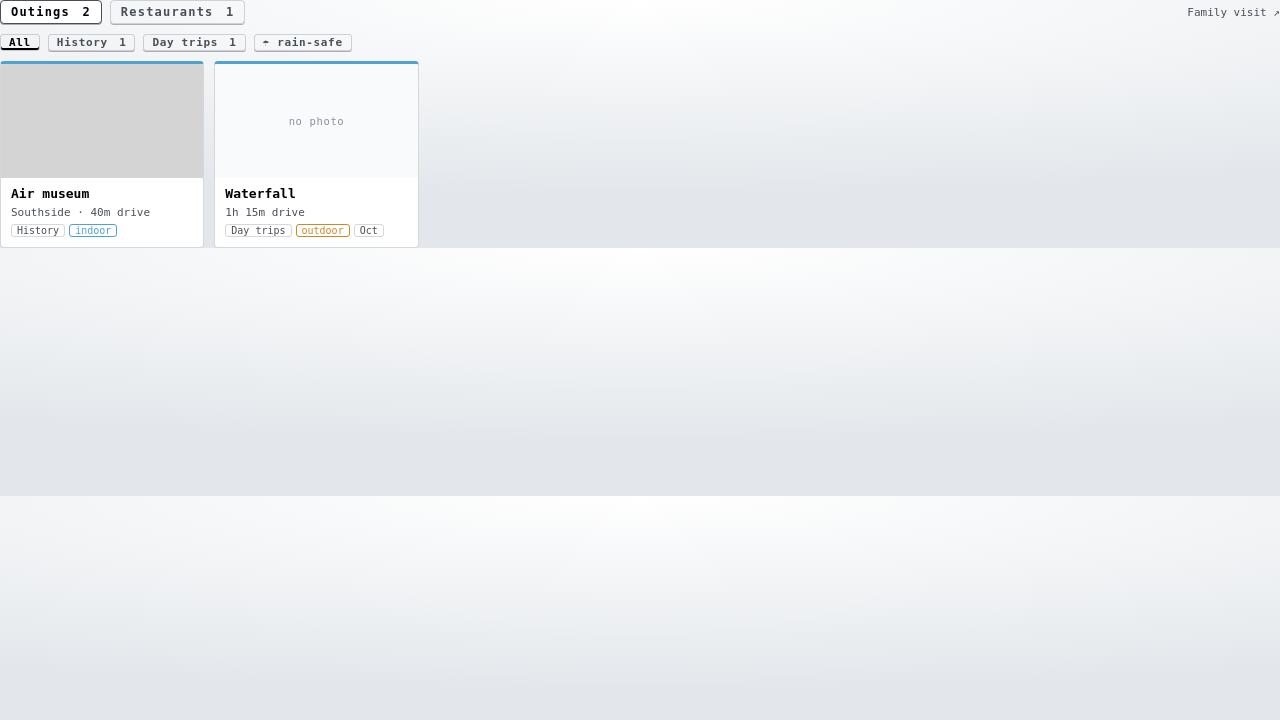
BankTiles › the visit link opens the folder-note
The image size is (1280, 720).
Click the link "Family visit ↗": (1234,12) [1187,6,1279,18]
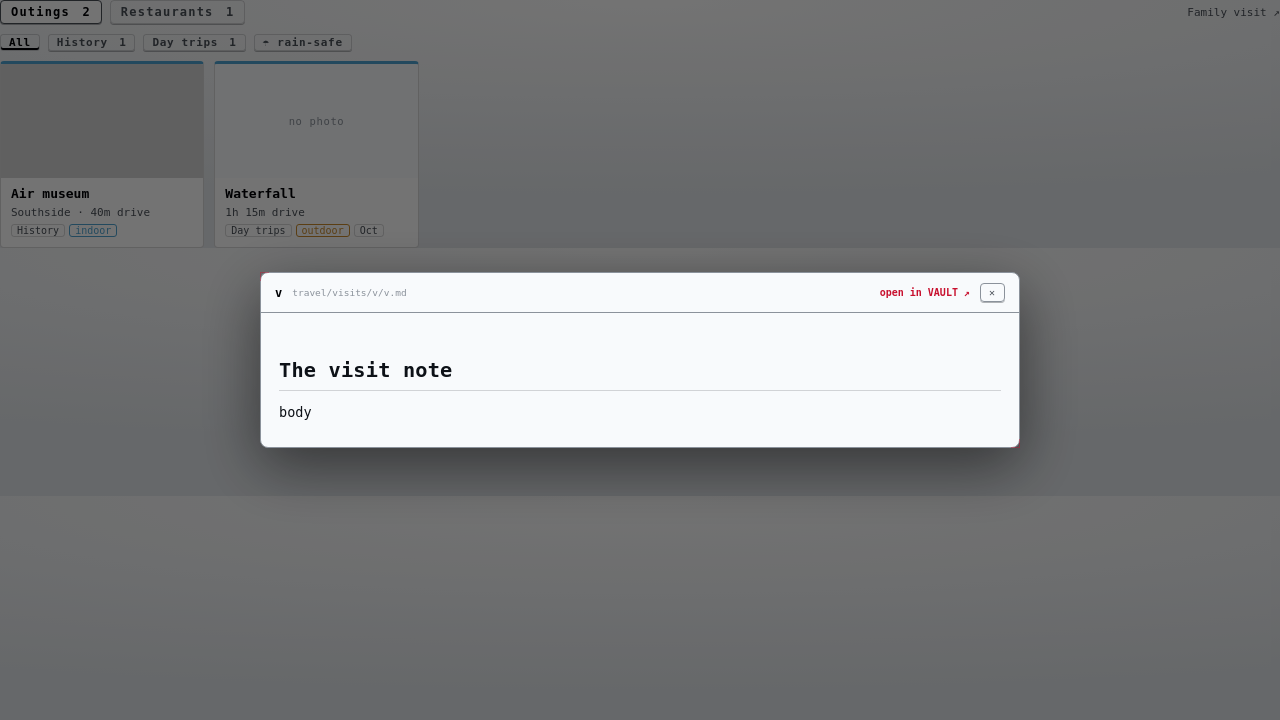
Expected: the heading "The visit note" is shown, [279,357,1001,391]
